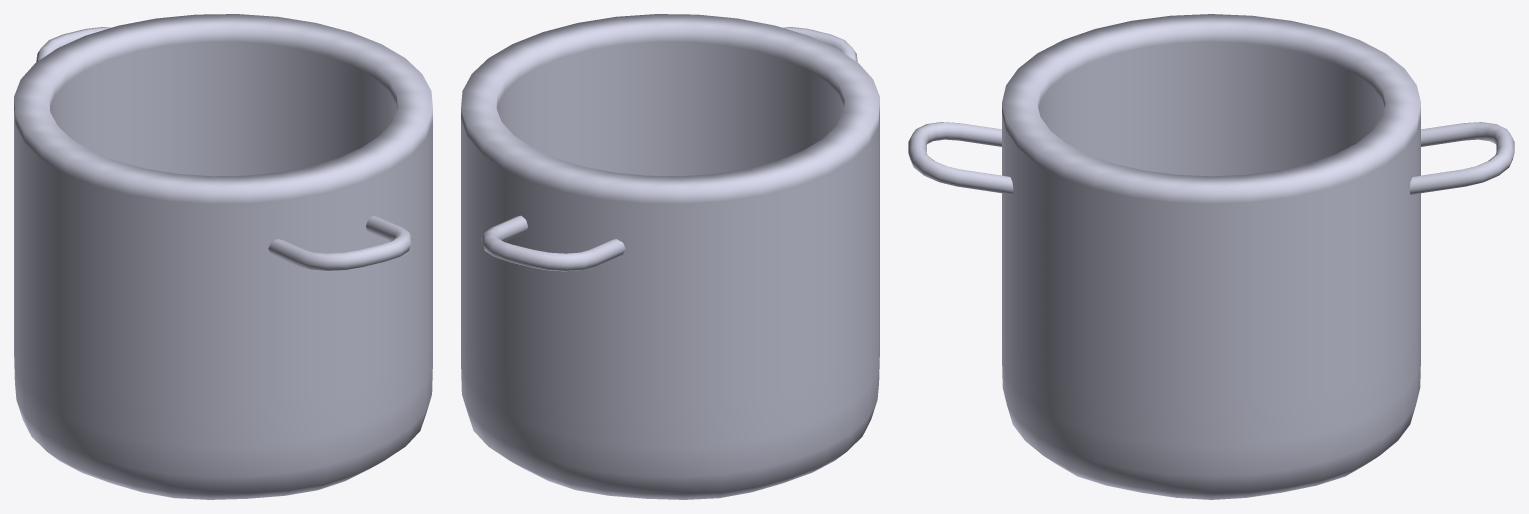
The model's file is cookpot.fbx.
3 renders of one model, left to right at view 1: azimuth 30°, elevation 25°; view 2: azimuth 150°, elevation 25°; view 3: azimuth 270°, elevation 25°, orthographic.
Parts seen in each view (by area): view 1: pot; view 2: pot; view 3: pot.
Part boxes in pixels (x1,y1,x2,y2): pot: [14, 14, 432, 499]; pot: [461, 14, 879, 499]; pot: [908, 14, 1514, 499].
Bounding box in the file's own units: 13574 × 11878 × 19630.
